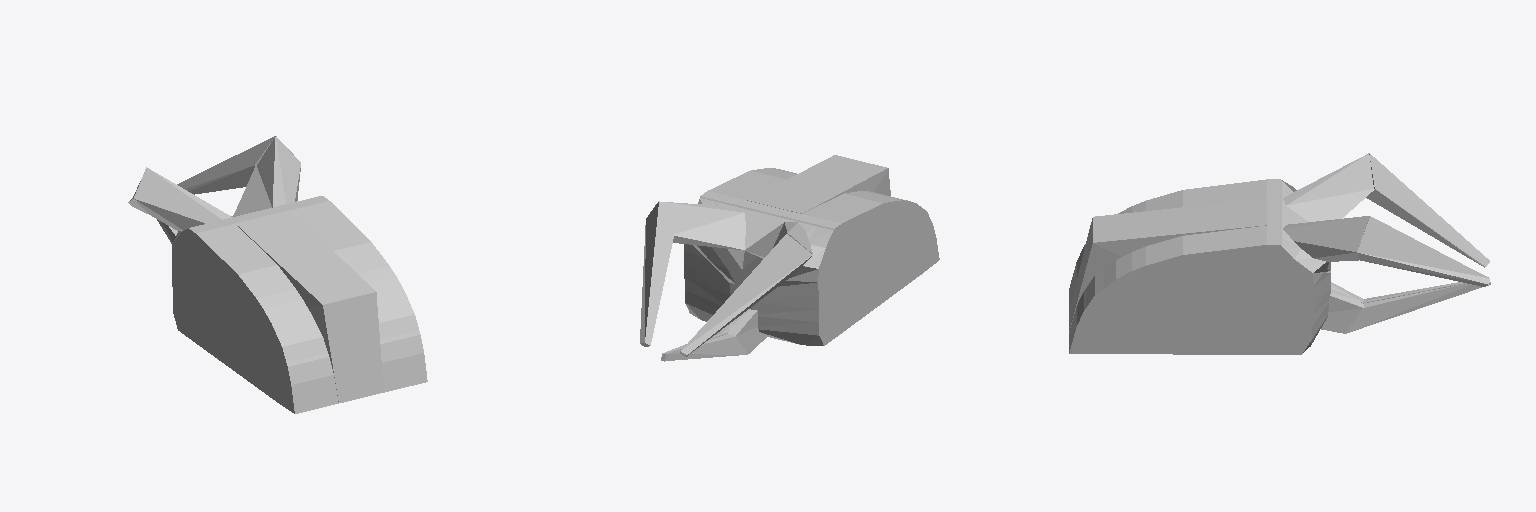
3 views of the same model, side by side, from view 1: azimuth 30°, elevation 25°; view 2: azimuth 150°, elevation 25°; view 3: azimuth 270°, elevation 25° (orthographic).
Parts seen in each view (by area): view 1: turret; view 2: turret; view 3: turret.
Boxes of the visible parts, x1,y1,x2,y2 form: turret: [128, 136, 427, 413]; turret: [640, 155, 939, 361]; turret: [1069, 153, 1490, 354].
Bounding box in the file's own units: 146 × 120 × 318.